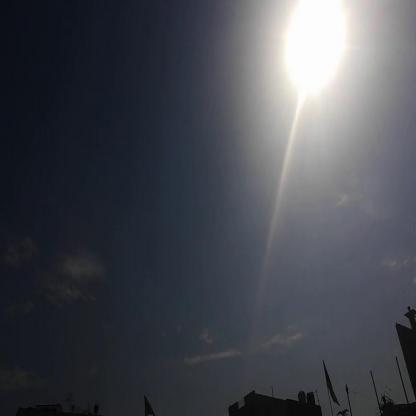other: (277, 2, 352, 96)
